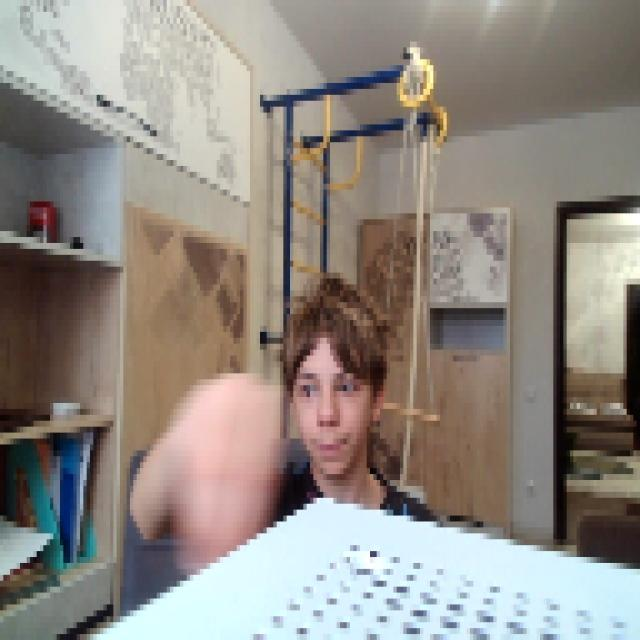left_click: (123, 367, 280, 569)
